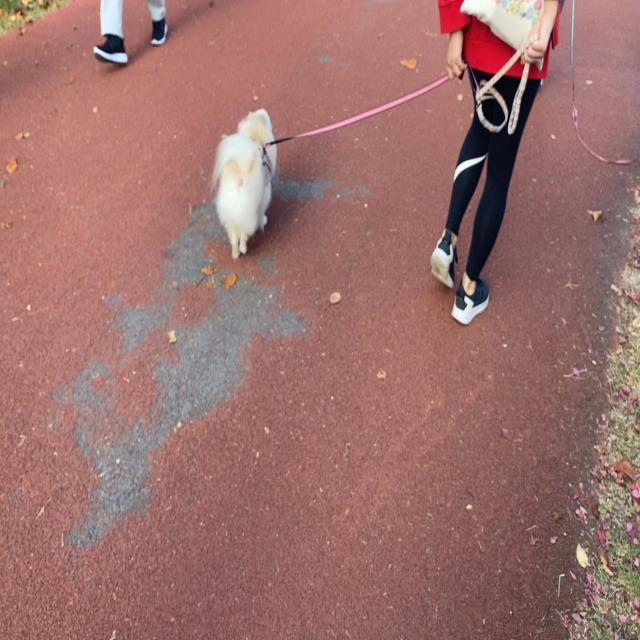Leashed_Dog: (210, 36, 491, 260)
